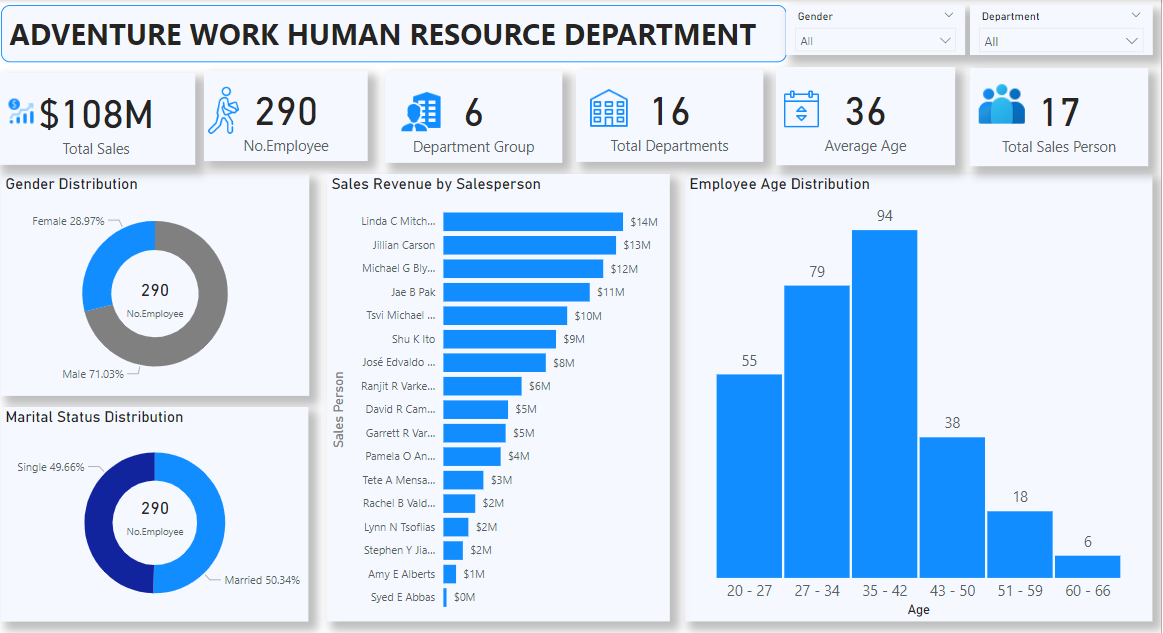

Layout of this report page (visuals, bound fields, positions):
{"tool":"powerbi","page":{"name":"HR Overview","canvas":[1280,720],"ordinal":0},"visuals":[{"type":"card","fields":{"Values":["Count(EmployeeData.ContactNumber)"]},"box":[227.6,78.3,180.3,99],"z":0,"group":"g2"},{"type":"card","fields":{"Values":["Sum(Sales.TotalDue)"]},"box":[0,80.3,217.7,101.2],"z":0,"group":"g1"},{"type":"donutChart","title":"Gender Distribution","fields":{"Y":["Count(EmployeeData.ContactNumber)"],"Category":["EmployeeData.Gender"]},"box":[4.4,191.3,338.7,244.1],"z":0},{"type":"card","fields":{"Values":["Count(Department.Dept_Name)"]},"box":[636.7,76.9,205.6,101.2],"z":1000,"group":"g3"},{"type":"image","box":[7.7,103,40.7,40.3],"z":1000,"group":"g1"},{"type":"card","fields":{"Values":["Avg(EmployeeData.Age)"]},"box":[856.6,73.7,196.8,107.8],"z":2000,"group":"g4"},{"type":"card","fields":{"Values":["Count(Department.Dept_group)"]},"box":[426.8,78.1,194.6,101.2],"z":2000,"group":"g2"},{"type":"card","fields":{"Values":["Count(Sales.SalesPersonID)"]},"box":[1070,74.8,195.7,107.8],"z":4000,"group":"g5"},{"type":"card","fields":{"Values":["Count(EmployeeData.ContactNumber)"]},"box":[112.2,292.5,123.2,67.1],"z":5000},{"type":"donutChart","title":"Marital Status Distribution","fields":{"Y":["Count(EmployeeData.ContactNumber)"],"Category":["EmployeeData.MaritalStatus"]},"box":[4.6,447.7,338.4,235.8],"z":6000},{"type":"clusteredColumnChart","title":"Employee Age Distribution","fields":{"Y":["CountNonNull(EmployeeData.Age)"],"Category":["AgeBin.AgeGroup"]},"box":[756.5,191.4,513.8,492.2],"z":7000},{"type":"textbox","box":[4.6,5.7,863.5,62.7],"z":8000},{"type":"slicer","fields":{"Values":["EmployeeData.Gender"]},"box":[868.1,5.7,197.1,54.7],"z":10000},{"type":"slicer","fields":{"Values":["Department.Dept_Name"]},"box":[1069.7,5.7,200.5,54.7],"z":11000},{"type":"card","fields":{"Values":["Count(EmployeeData.ContactNumber)"]},"box":[111.6,533.2,123,66.1],"z":12000},{"type":"group","id":"g1","title":"Group 1","box":[0,80.3,217.7,101.2],"z":13000},{"type":"group","id":"g2","title":"Group 3","box":[216.5,78.1,405,101.2],"z":14001},{"type":"image","box":[644.4,90.1,57.2,58.3],"z":14002,"group":"g3"},{"type":"group","id":"g3","title":"Group 2","box":[636.7,76.9,205.6,101.2],"z":14003},{"type":"image","box":[216.5,85.6,64.9,70.4],"z":14003,"group":"g2"},{"type":"image","box":[856.6,94.6,56.1,51.7],"z":14004,"group":"g4"},{"type":"group","id":"g4","title":"Group 4","box":[856.6,73.7,196.8,107.8],"z":14005},{"type":"image","box":[1070,80.3,69.3,68.2],"z":14006,"group":"g5"},{"type":"group","id":"g5","title":"Group 5","box":[1070,74.8,195.7,107.8],"z":14007},{"type":"clusteredBarChart","title":"Sales Revenue by Salesperson","fields":{"Y":["Sum(Sales.TotalDue)"],"Category":["EmployeeData.Full Name"]},"box":[362.9,191.3,377.2,491.5],"z":14008},{"type":"image","box":[437.5,91.3,57.2,63.8],"z":14500,"group":"g2"}]}

Visuals, with their boxes on the page's 1280x720 design canvas (x1, y1, x2, y2). These are canvas units, not pixel positions in the 1163x633 screenshot, which may show the page scaled, cropped or inside an application window:
card - Count(EmployeeData.ContactNumber): (228, 78, 408, 177)
card - Sum(Sales.TotalDue): (0, 80, 218, 182)
"Gender Distribution" donutChart: (4, 191, 343, 435)
card - Count(Department.Dept_Name): (637, 77, 842, 178)
image: (8, 103, 48, 143)
card - Avg(EmployeeData.Age): (857, 74, 1053, 182)
card - Count(Department.Dept_group): (427, 78, 621, 179)
card - Count(Sales.SalesPersonID): (1070, 75, 1266, 183)
card - Count(EmployeeData.ContactNumber): (112, 292, 235, 360)
"Marital Status Distribution" donutChart: (5, 448, 343, 684)
"Employee Age Distribution" clusteredColumnChart: (756, 191, 1270, 684)
textbox: (5, 6, 868, 68)
slicer - EmployeeData.Gender: (868, 6, 1065, 60)
slicer - Department.Dept_Name: (1070, 6, 1270, 60)
card - Count(EmployeeData.ContactNumber): (112, 533, 235, 599)
"Group 1" group: (0, 80, 218, 182)
"Group 3" group: (216, 78, 622, 179)
image: (644, 90, 702, 148)
"Group 2" group: (637, 77, 842, 178)
image: (216, 86, 281, 156)
image: (857, 95, 913, 146)
"Group 4" group: (857, 74, 1053, 182)
image: (1070, 80, 1139, 148)
"Group 5" group: (1070, 75, 1266, 183)
"Sales Revenue by Salesperson" clusteredBarChart: (363, 191, 740, 683)
image: (438, 91, 495, 155)
